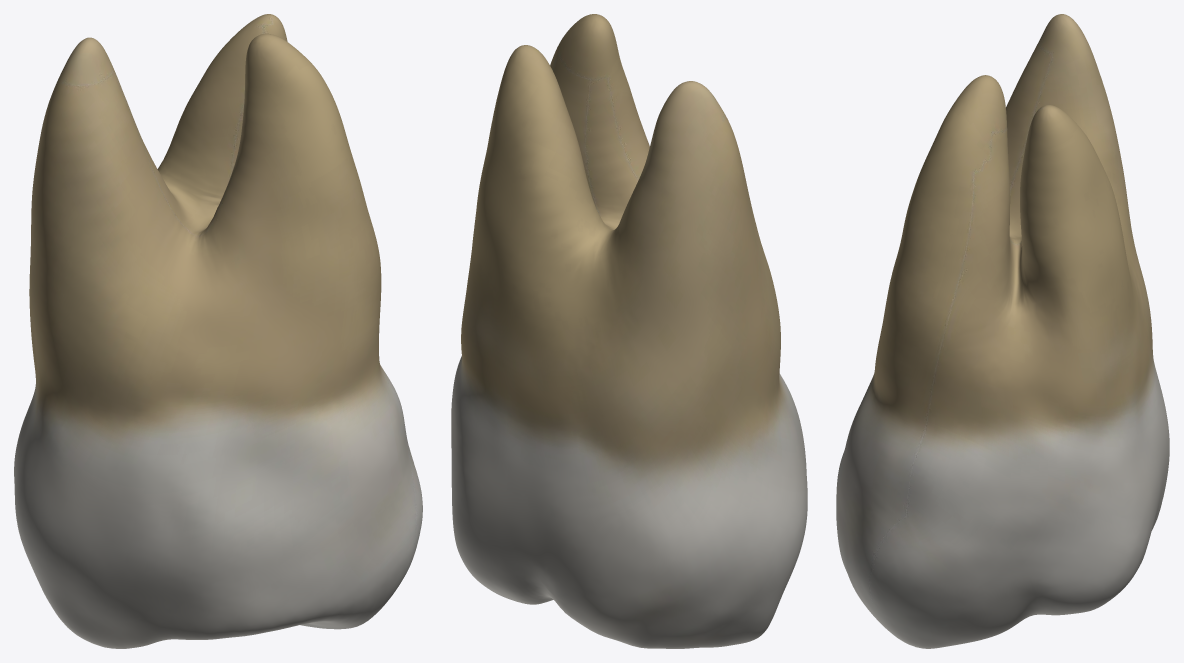
3 renders of one model, left to right at view 1: azimuth 30°, elevation 25°; view 2: azimuth 150°, elevation 25°; view 3: azimuth 270°, elevation 25°, orthographic. The views are drawn at different scales.
Visible parts, largest first — view 1: diente-28; view 2: diente-28; view 3: diente-28.
Part boxes in pixels (left/top/right/bottom): diente-28: left=14, top=14, right=422, bottom=648; diente-28: left=451, top=14, right=807, bottom=648; diente-28: left=836, top=14, right=1169, bottom=648.
Size of the model in its own units: 0.0103 by 0.017 by 0.00933.
1 material, 1 textured.
